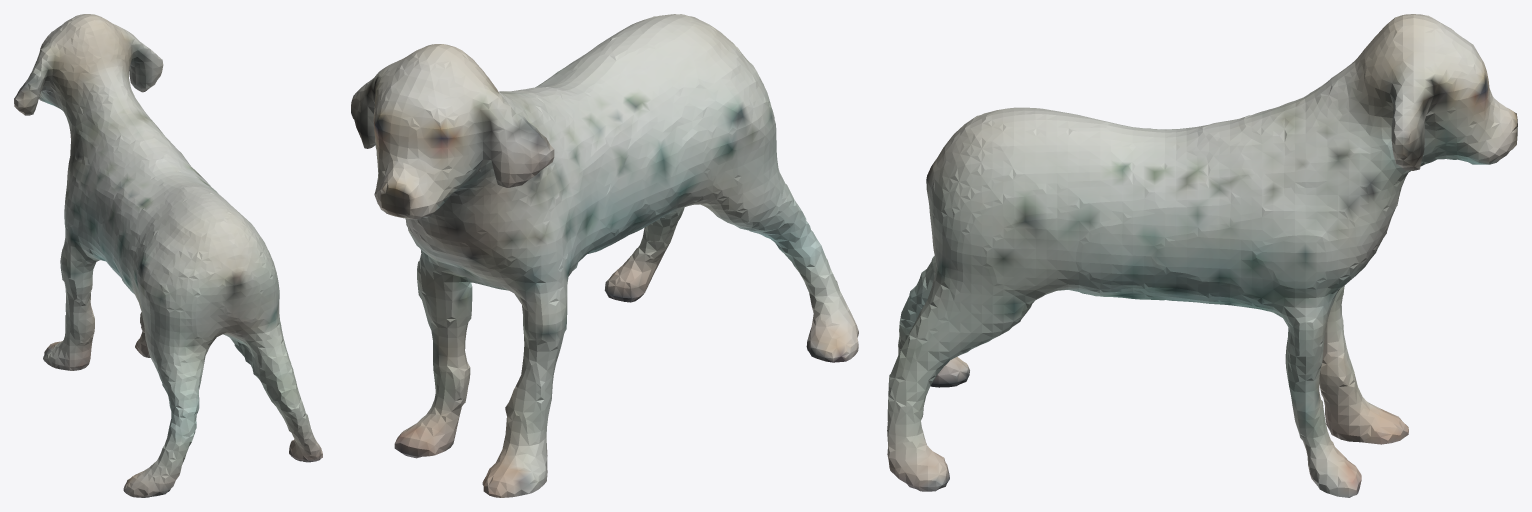
3 renders of one model, left to right at view 1: azimuth 30°, elevation 25°; view 2: azimuth 150°, elevation 25°; view 3: azimuth 270°, elevation 25°, orthographic. The views are drawn at different scales.
Visible parts, largest first — view 1: model.glb; view 2: model.glb; view 3: model.glb.
Part boxes in pixels (bbox=[...]): model.glb: bbox=[14, 14, 322, 497]; model.glb: bbox=[351, 14, 858, 497]; model.glb: bbox=[887, 14, 1517, 497].
Size of the model in its own units: 0.5032 by 0.7829 by 1.
